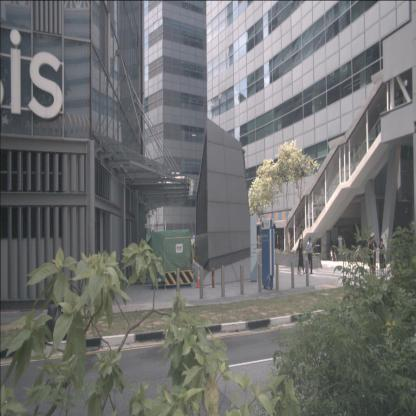barrier: (164, 238, 194, 292)
cone: (196, 265, 203, 288)
